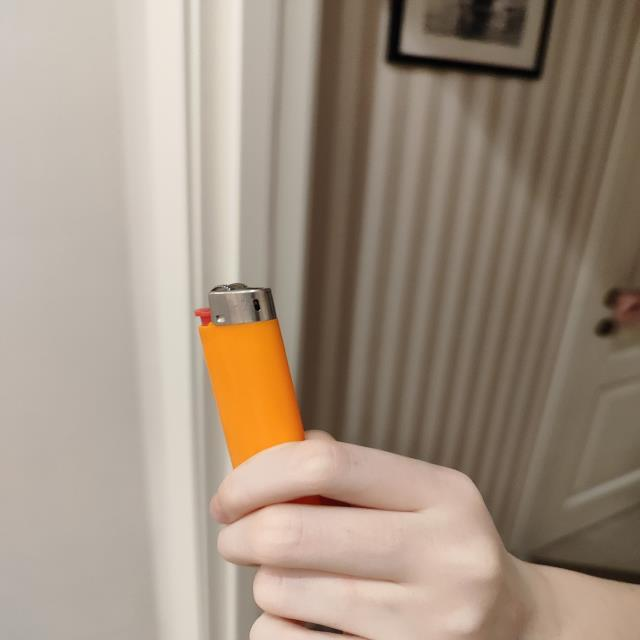lighter: (195, 282, 304, 467)
